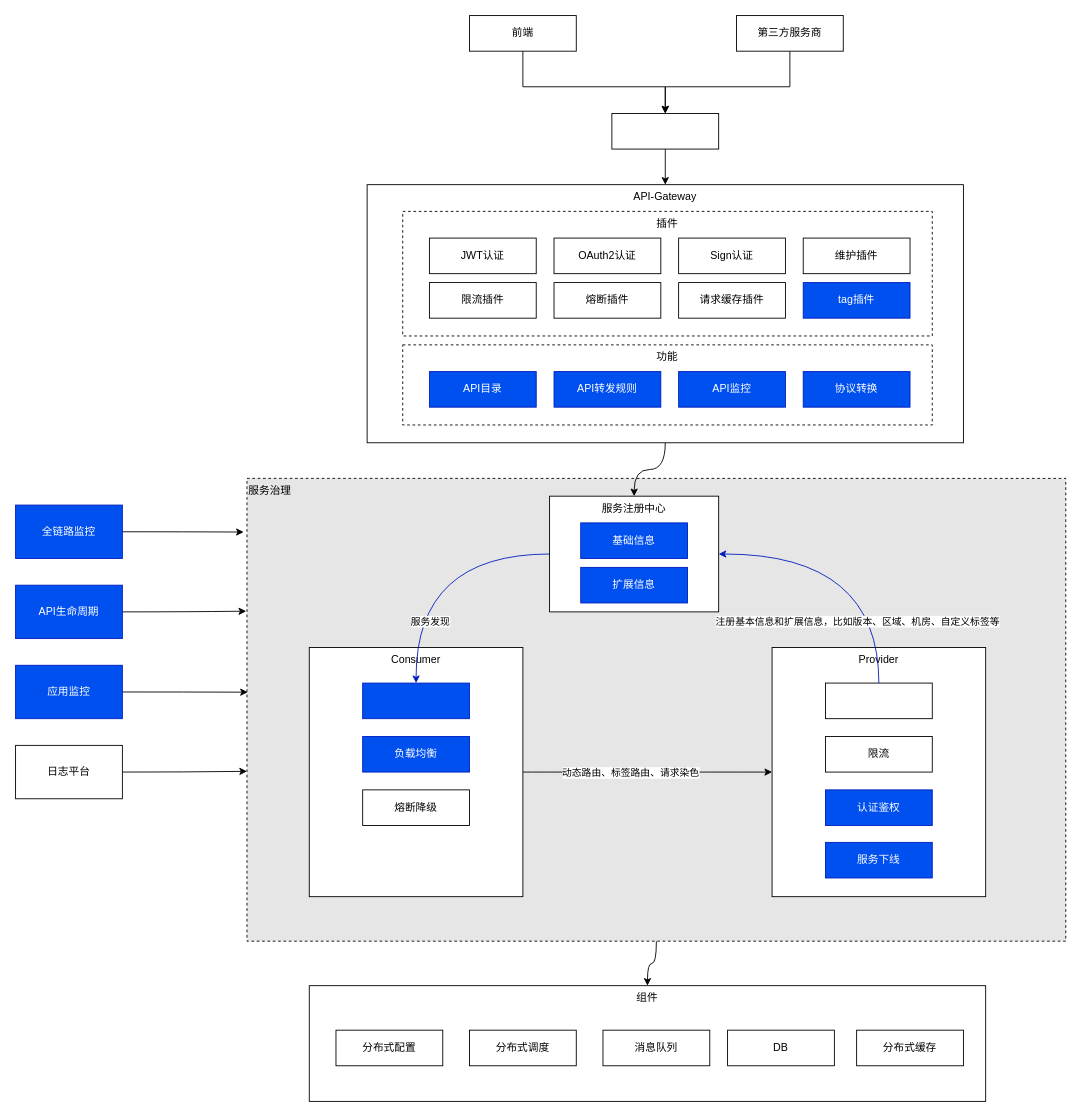
This 1081x1117 diagram has some shape labels left out. The shapes that lost their labels are listed below. From the top down, each one's centre as x and y in pixels, then its label:
At pixel 665 131: "CLB".
At pixel 415 700: "路由".
At pixel 878 700: "服务注册".
